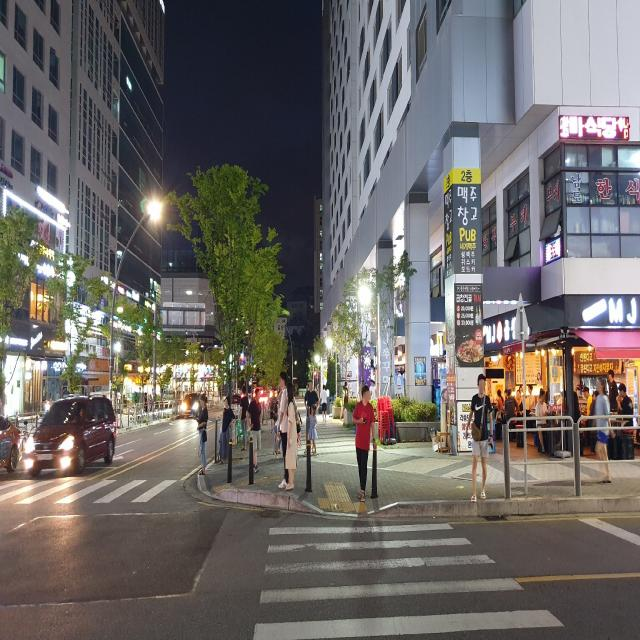횡단보도: (252, 519, 565, 640), (0, 481, 166, 501)
